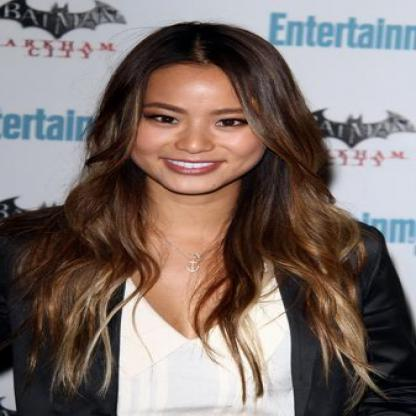long-hair: (46, 197, 354, 249)
